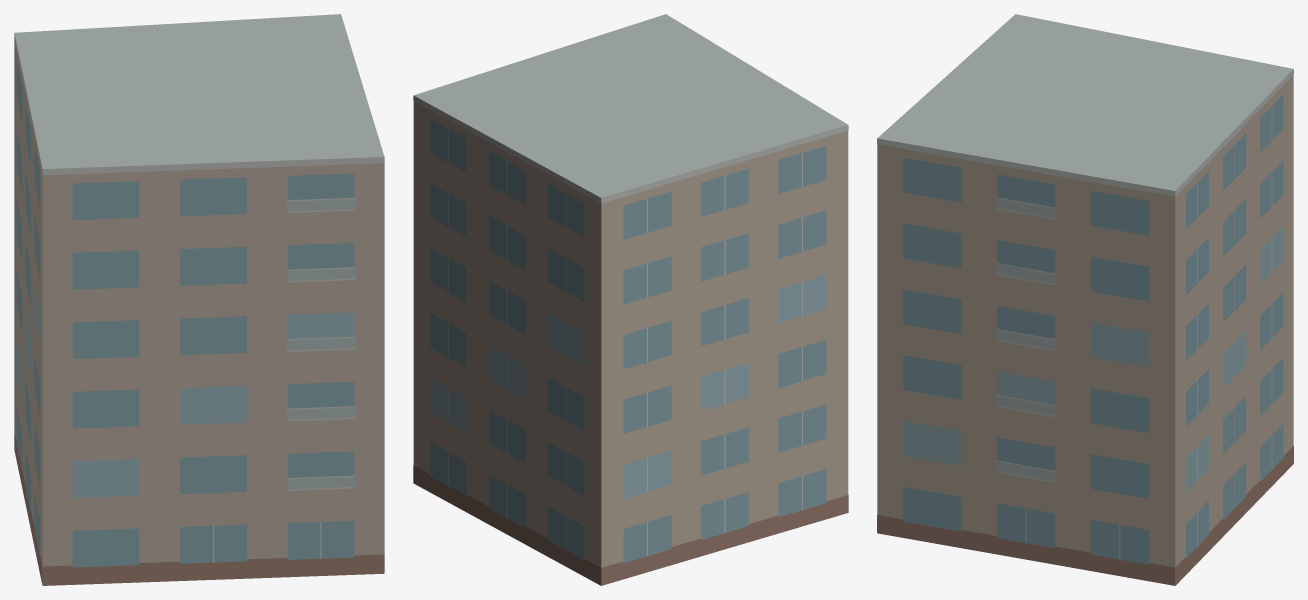
The model's file is survey-upis-32993655.glb.
3 renders of one model, left to right at view 1: azimuth 30°, elevation 25°; view 2: azimuth 150°, elevation 25°; view 3: azimuth 270°, elevation 25°, orthographic. The views are drawn at different scales.
Parts seen in each view (by area): view 1: survey-upis-32993655.tmp; view 2: survey-upis-32993655.tmp; view 3: survey-upis-32993655.tmp.
Part boxes in pixels (bbox=[...]): survey-upis-32993655.tmp: bbox=[14, 14, 384, 585]; survey-upis-32993655.tmp: bbox=[413, 14, 848, 585]; survey-upis-32993655.tmp: bbox=[877, 14, 1293, 585].
Size of the model in its own units: 15.87 by 16.5 by 15.79.
